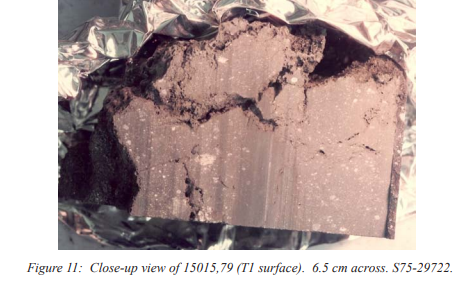Breccia: (108, 35, 411, 236), (171, 84, 304, 214)
